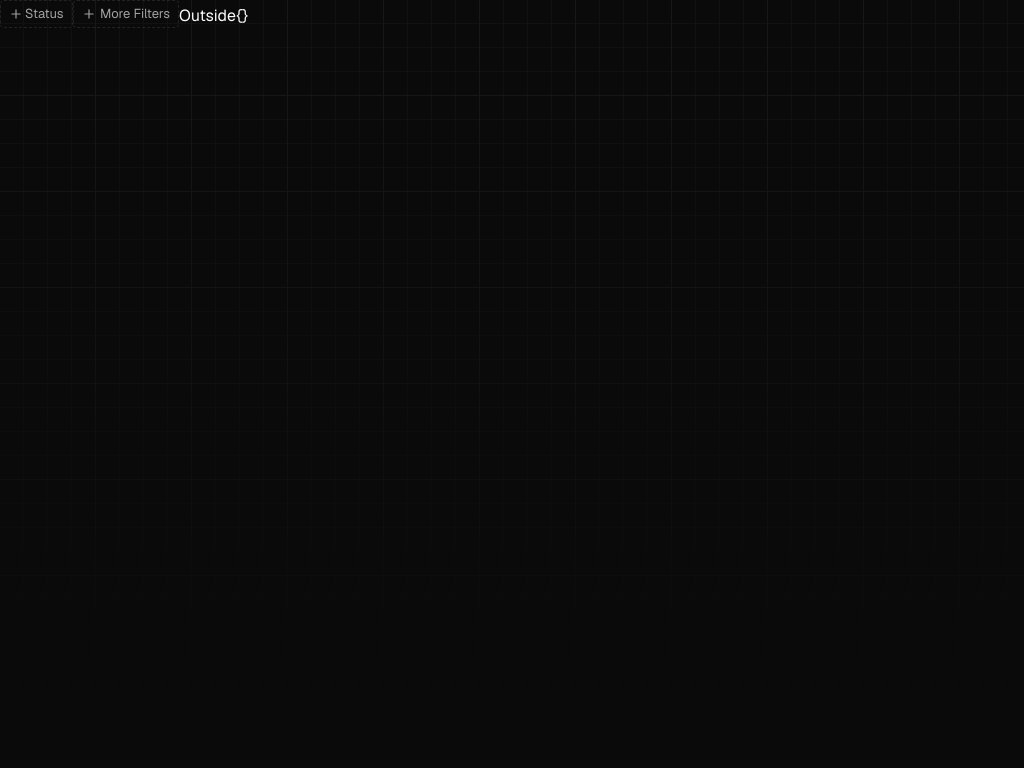
Test: More Filters menu (SPEC §7) › applying in the nested editor closes the whole menu and adds the chip
Click the button "More Filters" at (126, 14), box [73,0,179,28]
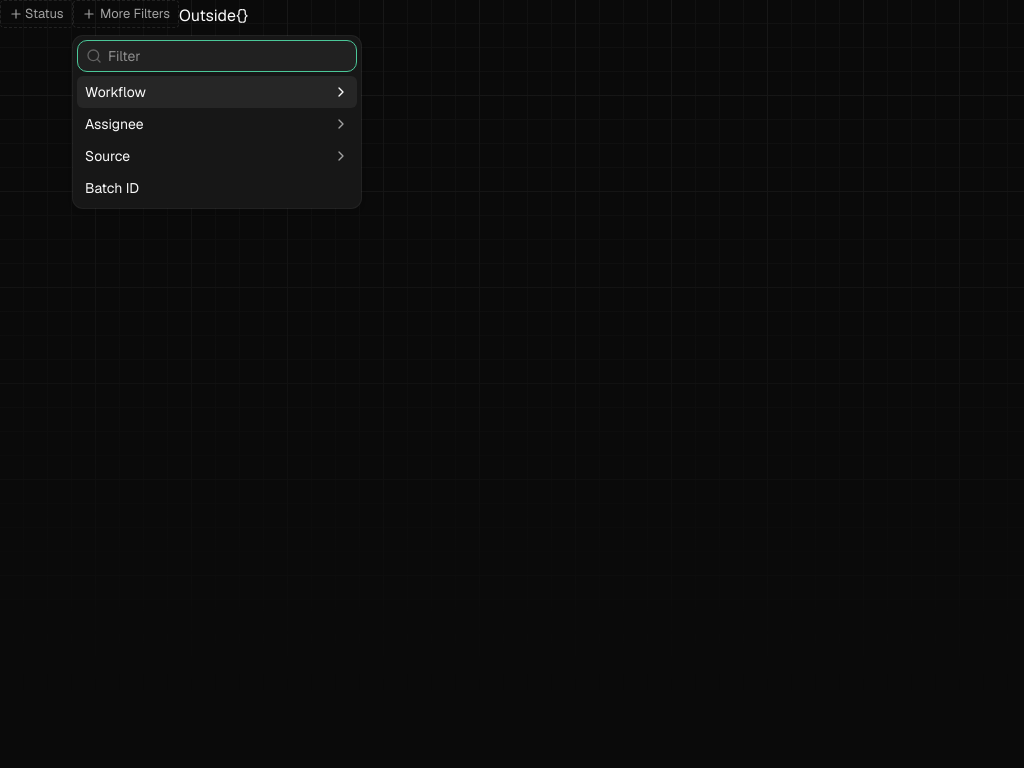
Click the option "Assignee" at (114, 124), box [85,115,349,133]
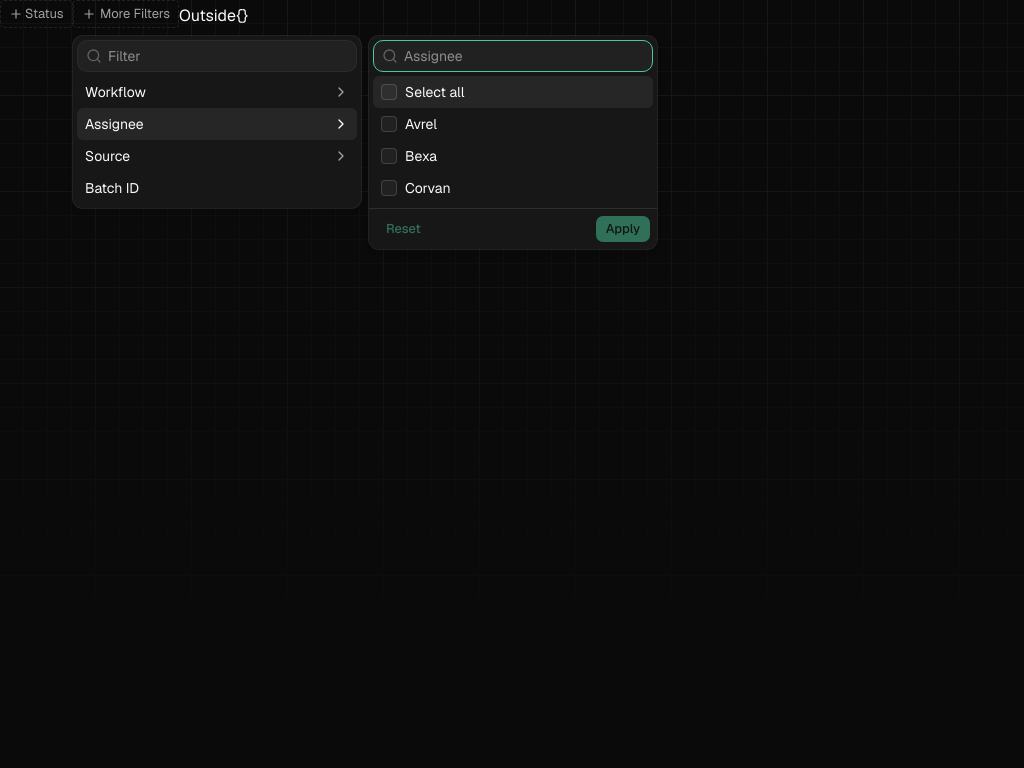
Click the option "Bexa" at (409, 156), box [381,147,437,165]
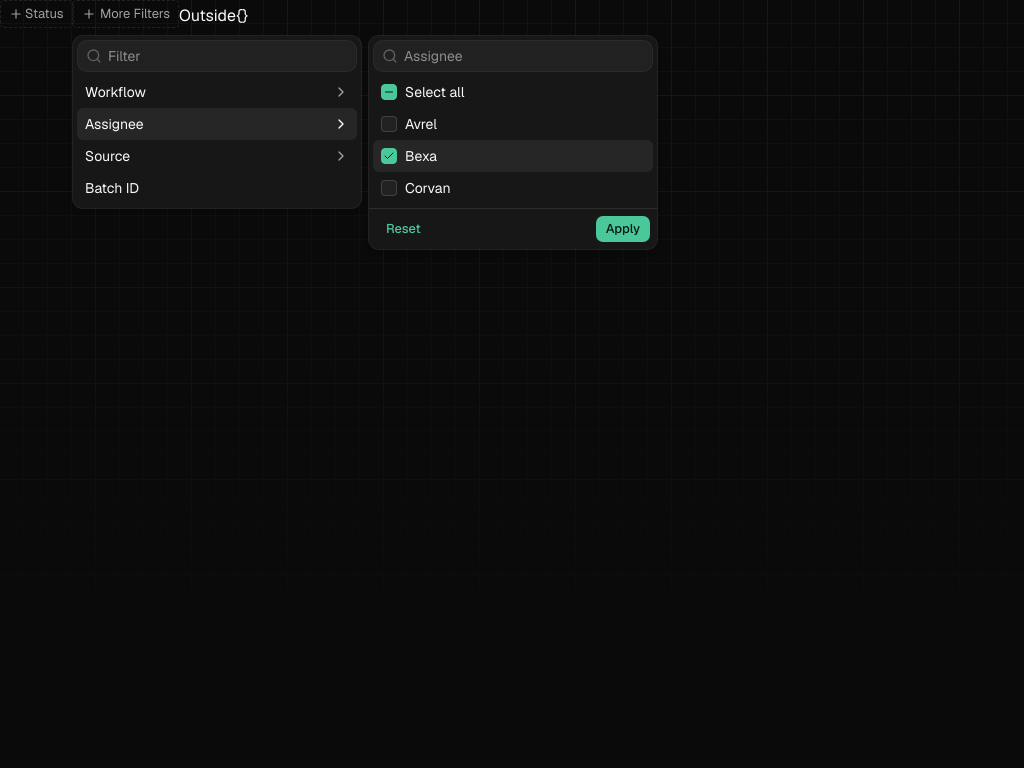
Click the button "Apply" at (623, 229), box [595,215,651,243]
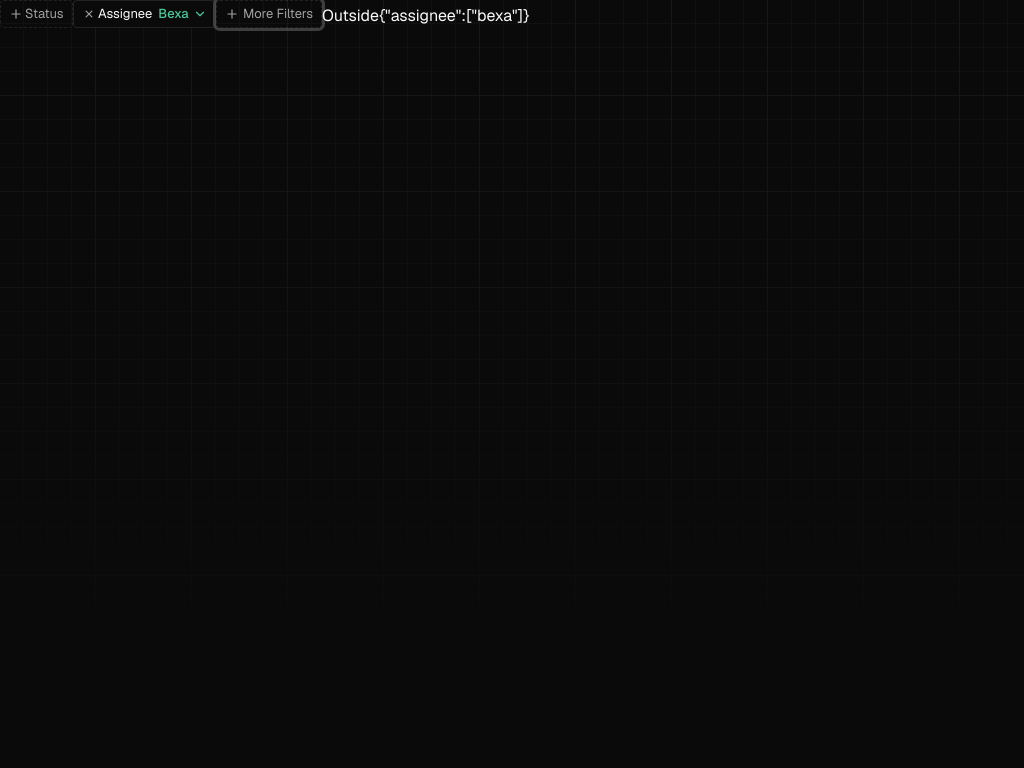
Check: the dialog is gone
Check: the button with aria-label "Assignee filter: Bexa. Edit" is shown, box [98,1,215,27]
